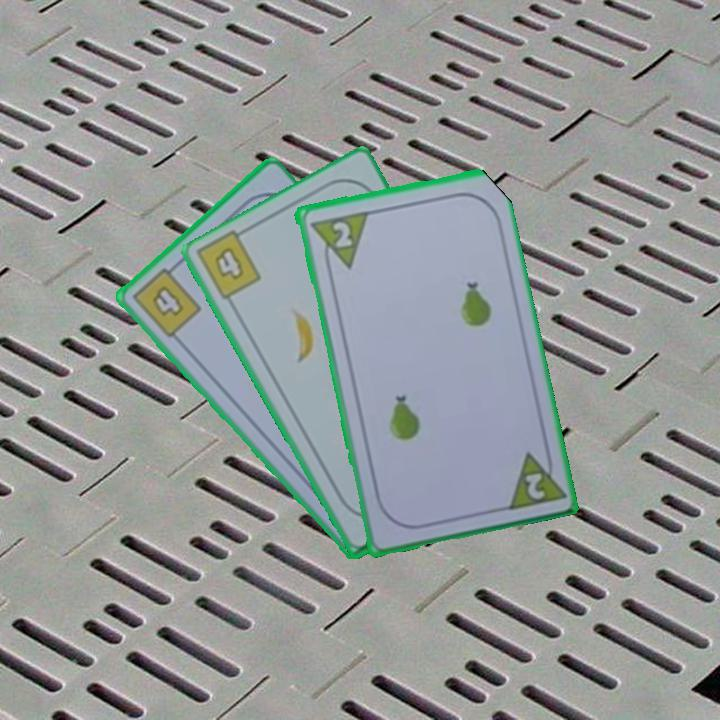2p: (501, 443, 566, 513), (305, 207, 370, 275)
4b: (128, 259, 205, 341), (210, 242, 247, 283)
